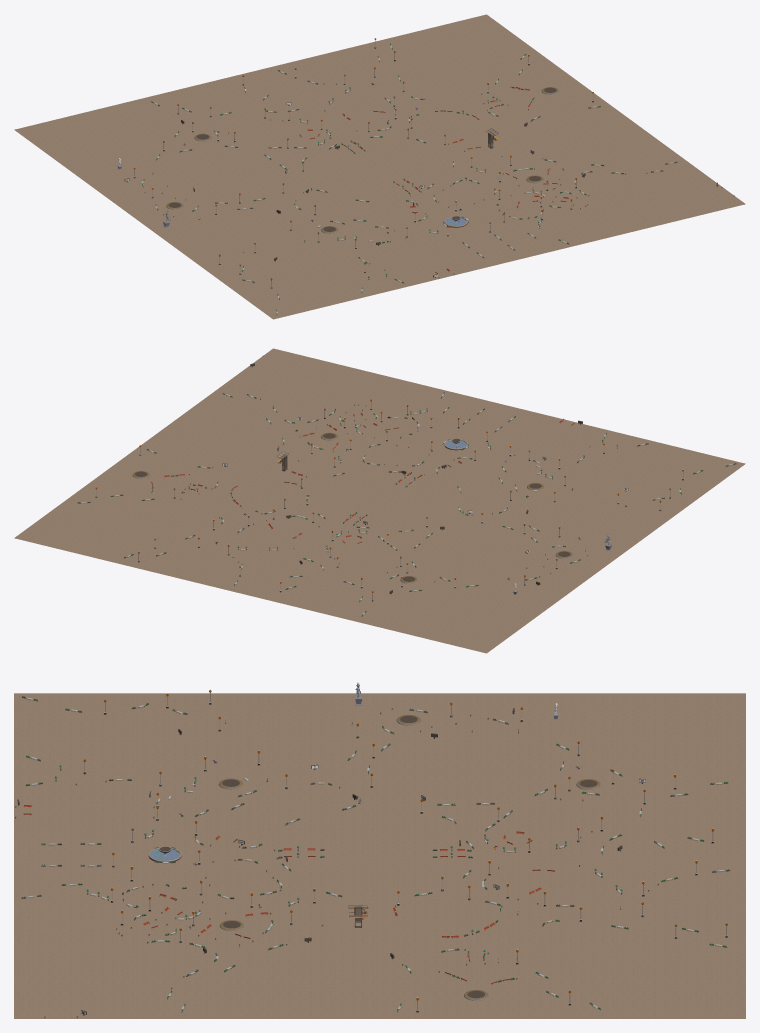
File: street.glb
The picture shows the model from 3 angles, top to bottom: view 1: azimuth 30°, elevation 25°; view 2: azimuth 150°, elevation 25°; view 3: azimuth 270°, elevation 25°; orthographic projection. The views are drawn at different scales.
Visible parts, largest first — view 1: Ground; view 2: Ground; view 3: Ground.
Boxes of the visible parts, x1,y1,x2,y2 form: Ground: (14,14,745,319); Ground: (14,348,745,653); Ground: (14,693,745,1018).
Size of what is drawn, in the model's own units: 320 by 10.57 by 304.
7 materials, 7 textured.
